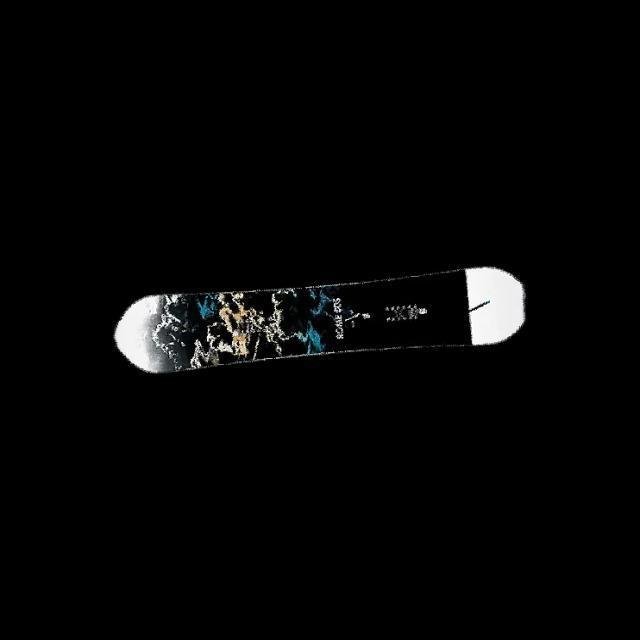Snowboard: (113, 264, 526, 374)
